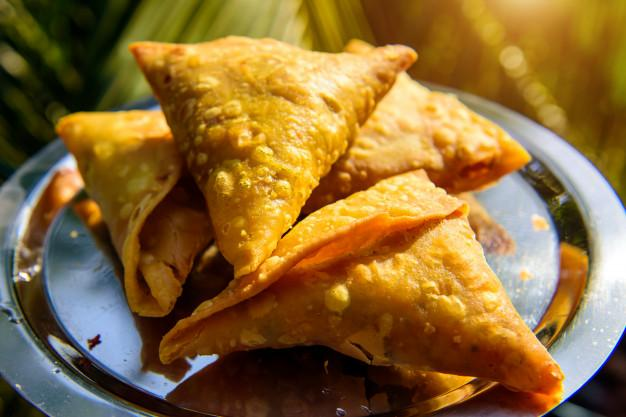samosa: (160, 170, 562, 394), (130, 37, 416, 277), (56, 111, 213, 316)
